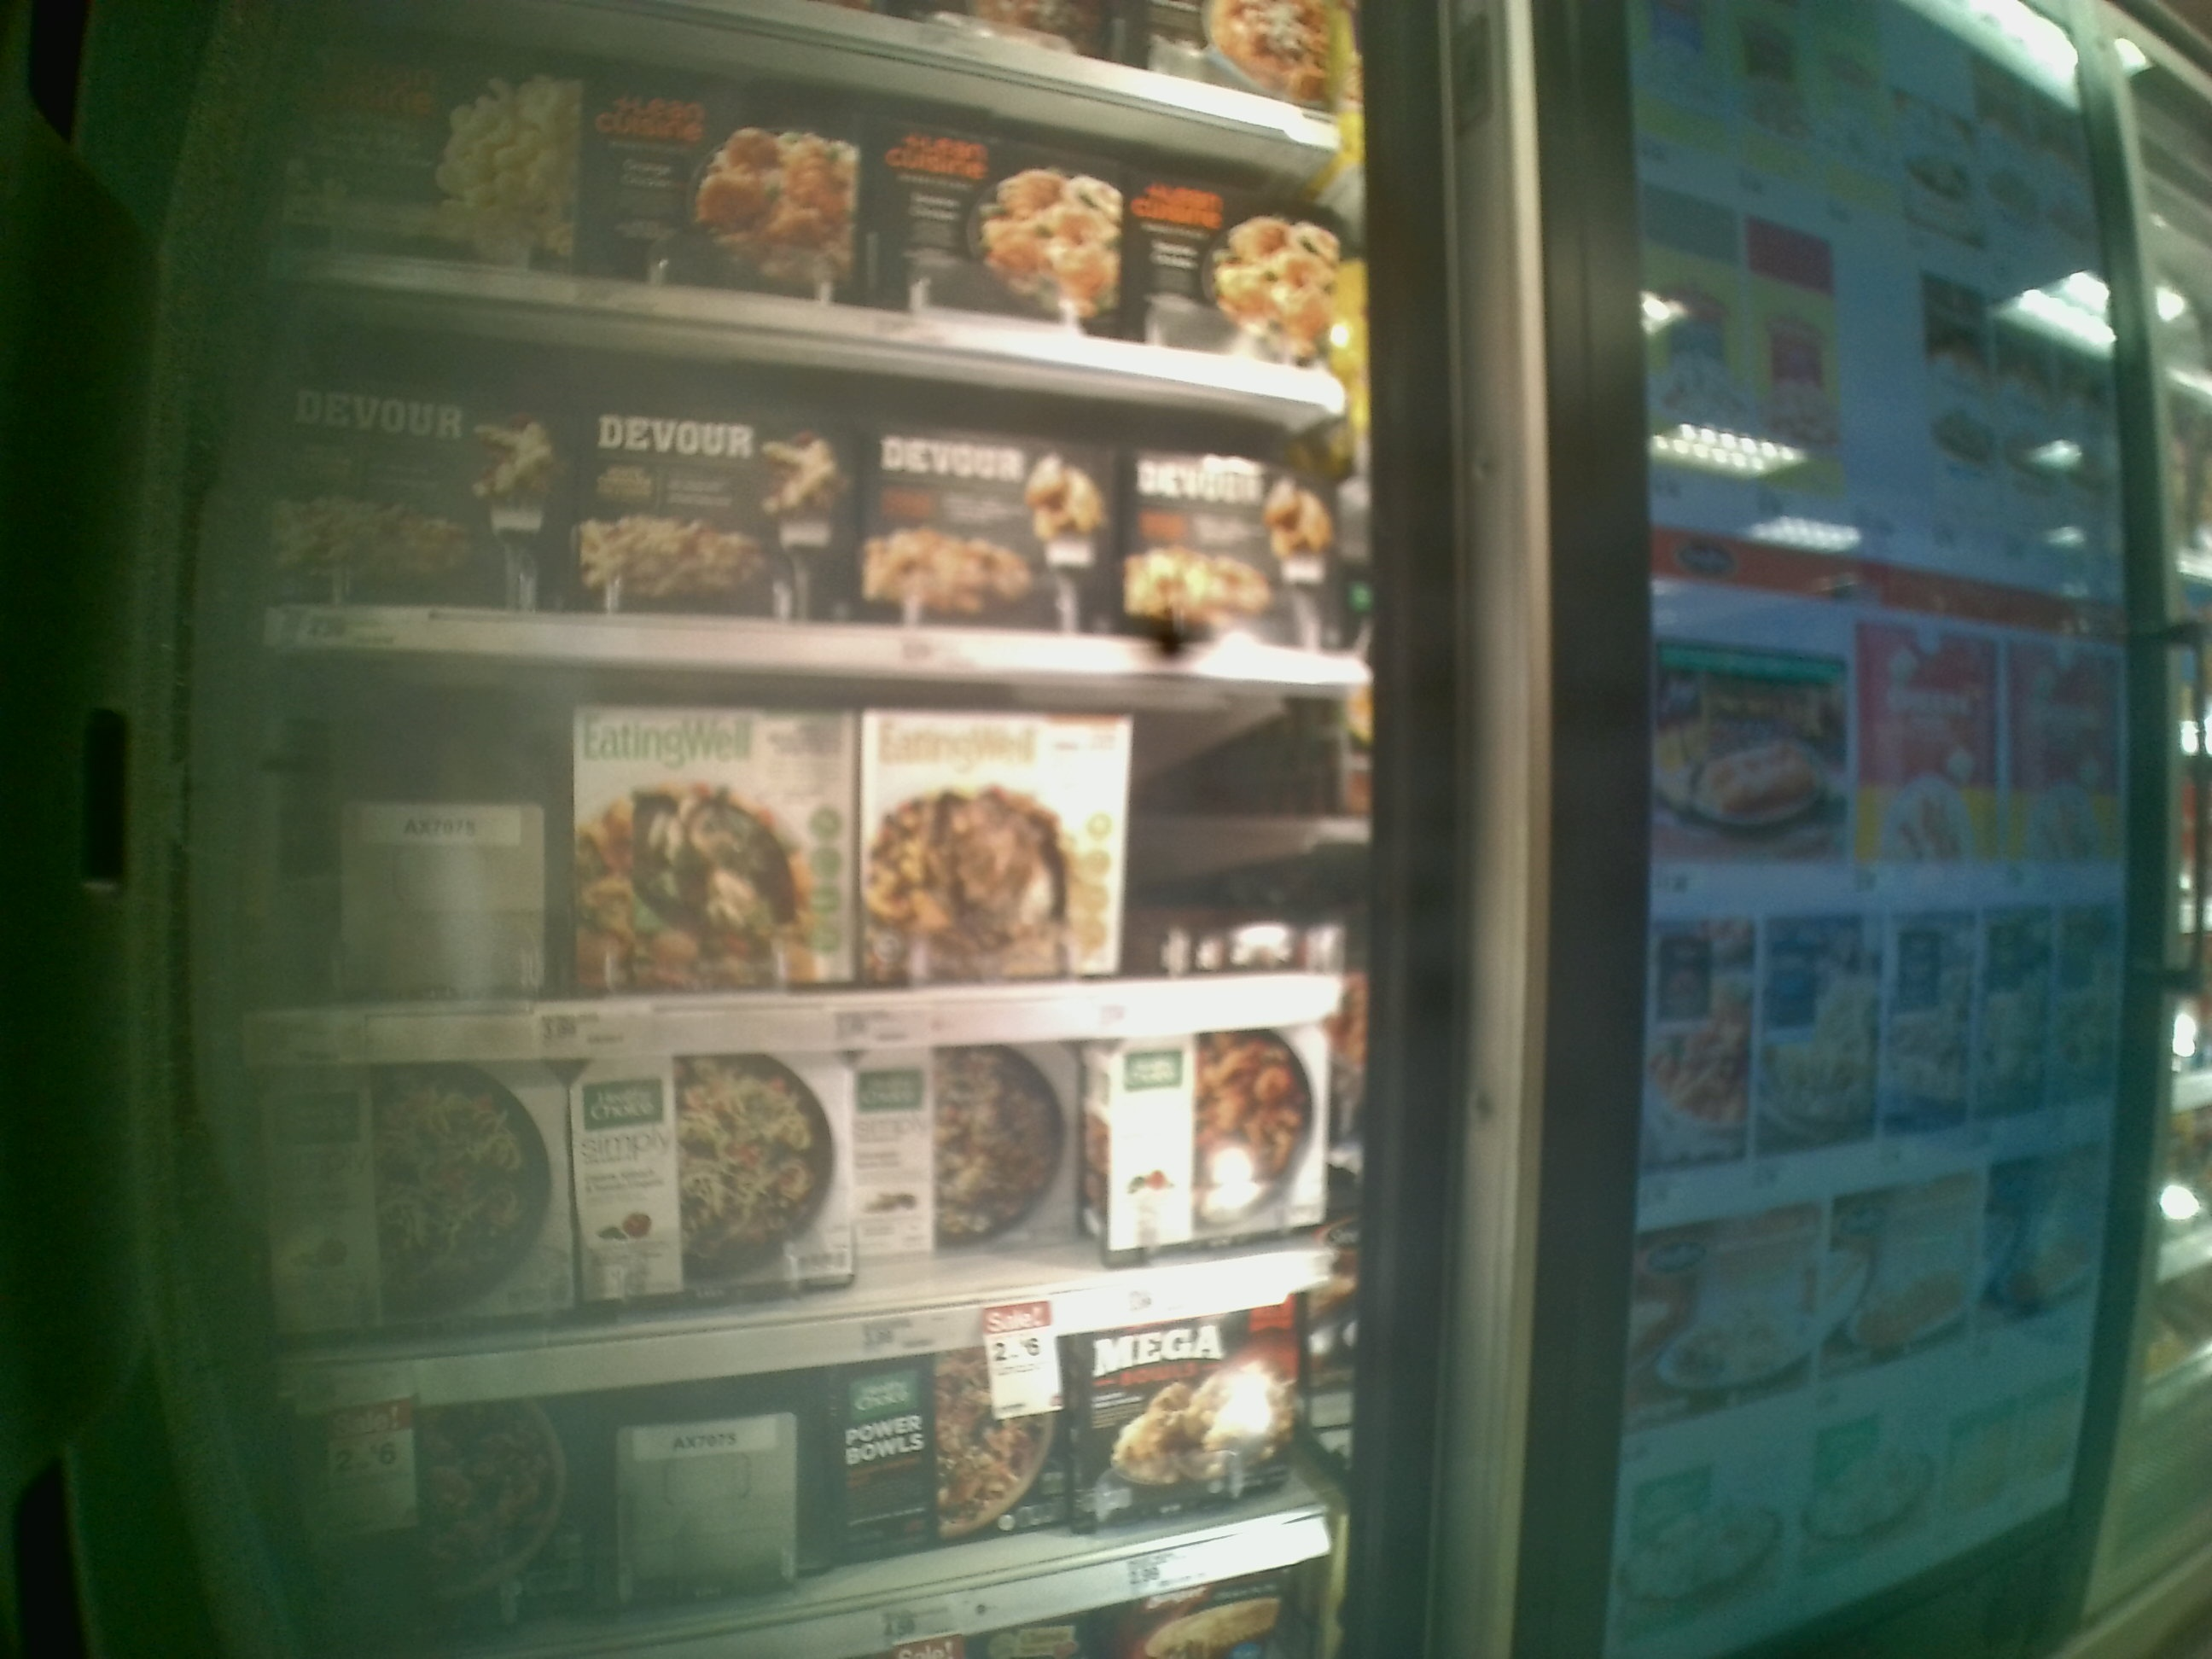pizza: (265, 1051, 582, 1328), (577, 694, 864, 979), (862, 694, 1130, 965), (261, 37, 566, 270), (577, 1033, 853, 1284), (566, 382, 855, 620), (312, 1398, 617, 1622), (266, 387, 561, 601), (869, 110, 1134, 345), (578, 70, 853, 289), (833, 1337, 1059, 1572), (862, 420, 1111, 622), (1104, 1025, 1322, 1248), (1125, 432, 1339, 648), (853, 1051, 1090, 1246), (1085, 1321, 1291, 1535), (1148, 181, 1355, 366)
